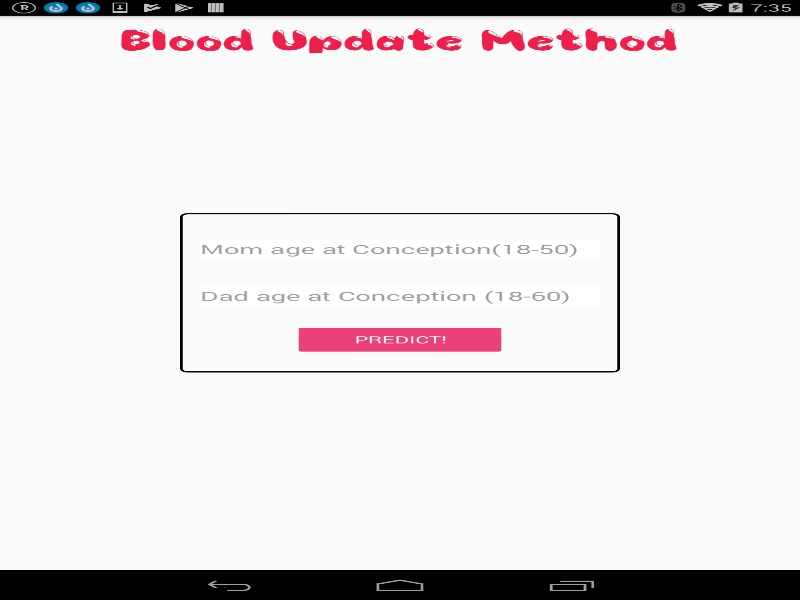Button: (293, 324, 506, 355)
Input: (200, 239, 600, 260), (200, 286, 600, 306)
